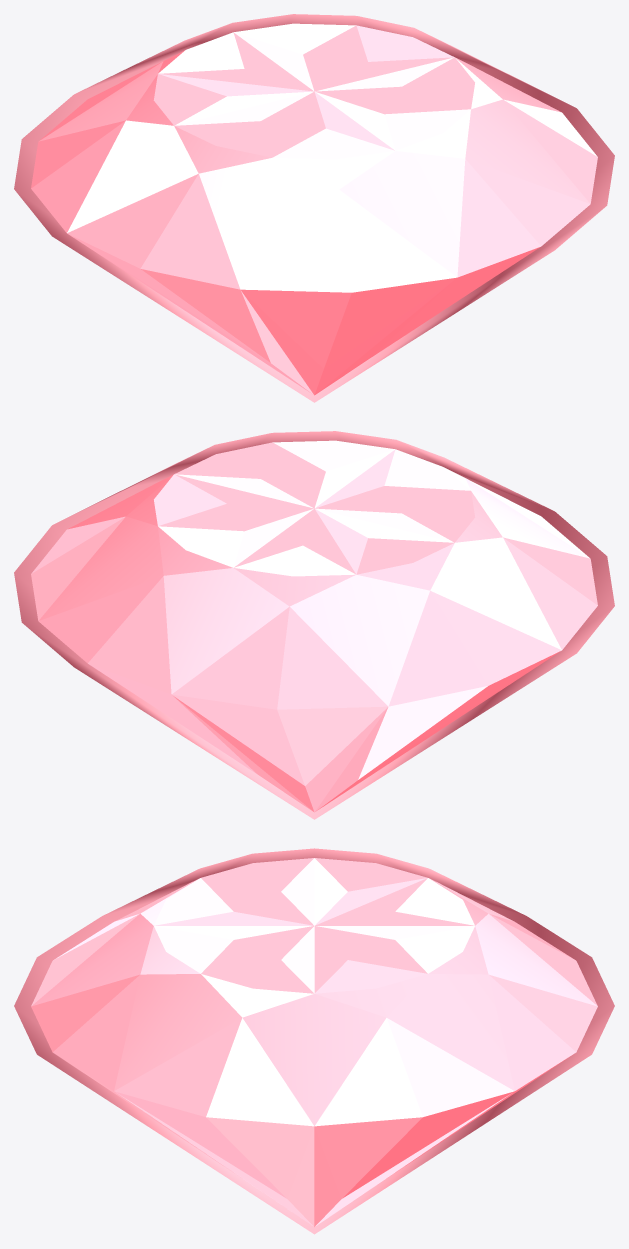
The picture shows the model from 3 angles, top to bottom: view 1: azimuth 30°, elevation 25°; view 2: azimuth 150°, elevation 25°; view 3: azimuth 270°, elevation 25°; orthographic projection.
Visible parts, largest first — view 1: Ruby; view 2: Ruby; view 3: Ruby.
Boxes of the visible parts, x1,y1,x2,y2 form: Ruby: (14, 14, 614, 402); Ruby: (14, 431, 614, 819); Ruby: (14, 848, 614, 1234).
Size of the model in its own units: 4.97 by 2.9 by 4.97.
